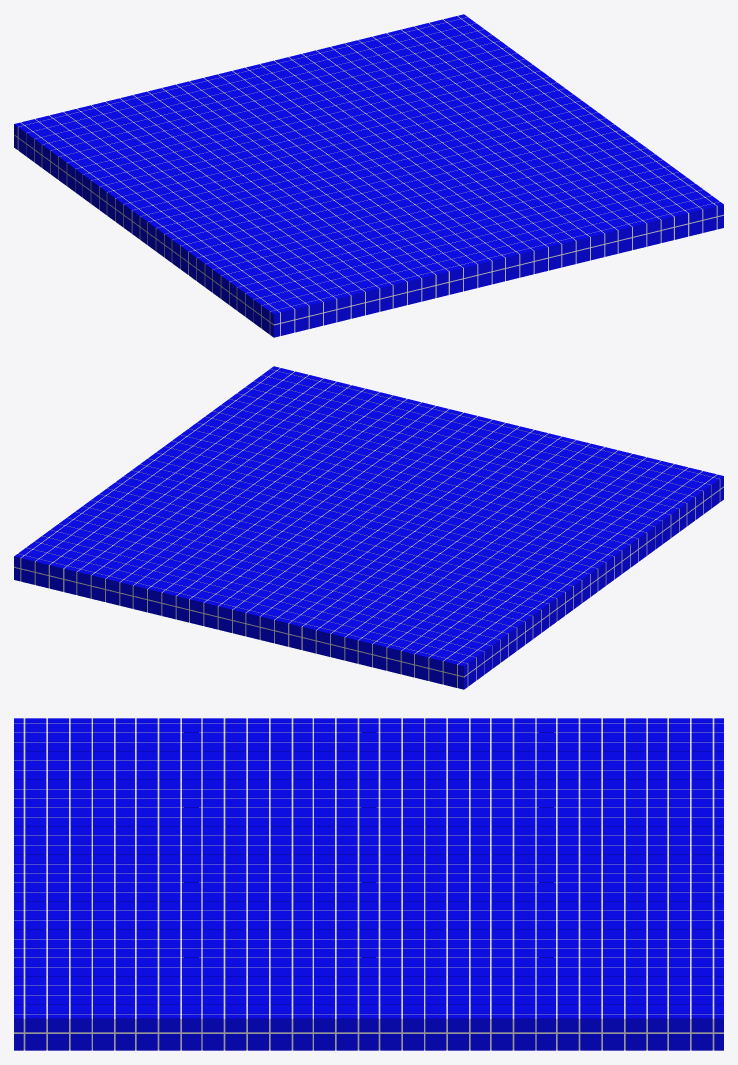
File: Floor3x3Merged.fbx
3 renders of one model, top to bottom at view 1: azimuth 30°, elevation 25°; view 2: azimuth 150°, elevation 25°; view 3: azimuth 270°, elevation 25°, orthographic. The views are drawn at different scales.
Visible parts, largest first — view 1: Floor3x3_Combined; view 2: Floor3x3_Combined; view 3: Floor3x3_Combined.
Part boxes in pixels (<box>): Floor3x3_Combined: <box>14,14,723,337</box>; Floor3x3_Combined: <box>14,366,723,689</box>; Floor3x3_Combined: <box>14,718,723,1050</box>.
Size of the model in its own units: 2000 by 100 by 2000.
